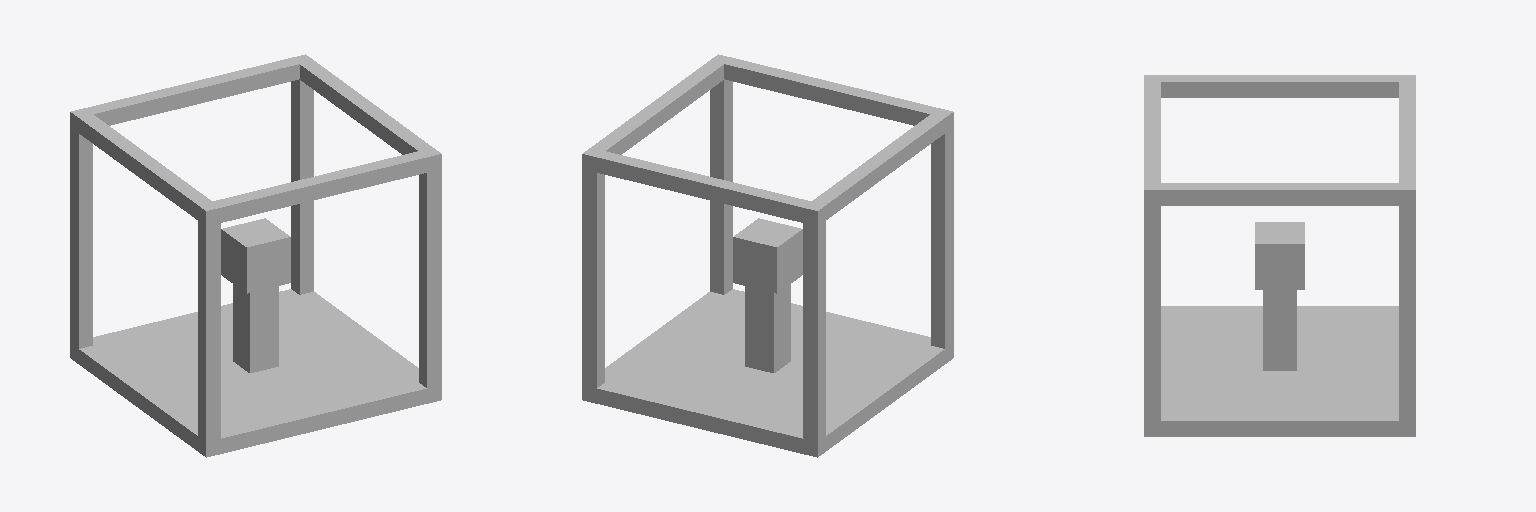
File: block_extender_base.obj
3 renders of one model, left to right at view 1: azimuth 30°, elevation 25°; view 2: azimuth 150°, elevation 25°; view 3: azimuth 270°, elevation 25°, orthographic.
Visible parts, largest first — view 1: Cube_Cube.001; view 2: Cube_Cube.001; view 3: Cube_Cube.001.
Part boxes in pixels (x1,y1,x2,y2): Cube_Cube.001: (70,54,441,457); Cube_Cube.001: (582,54,953,457); Cube_Cube.001: (1144,75,1415,436).
Bounding box in the file's own units: 1 × 1 × 1.